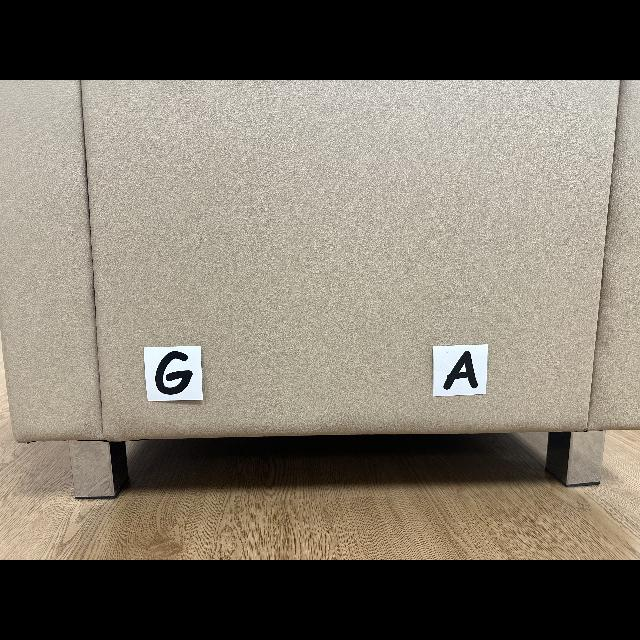A: (444, 351, 478, 390)
G: (155, 351, 192, 395)
